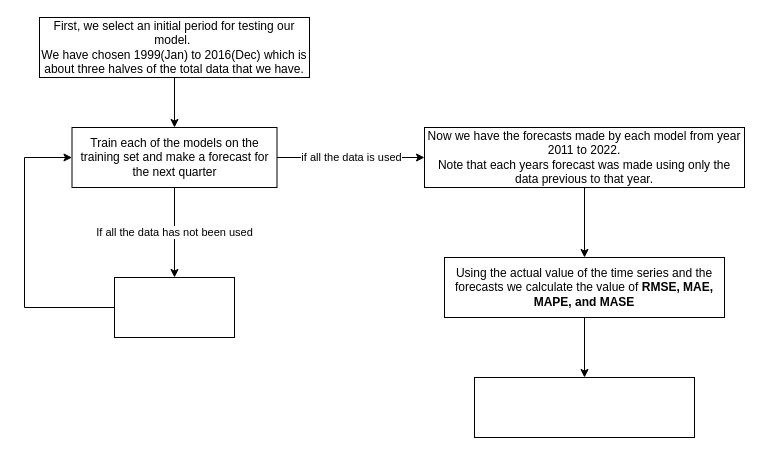
The diagram is 762 pixels wide and 455 high, and some of its shapes have lost their labels. Each missing label, with the centre of its shape:
"Increase the initial training dataset by one quarter" belongs at point 174,307.
"Using the values of these determinants we find out which model is best." belongs at point 584,407.
